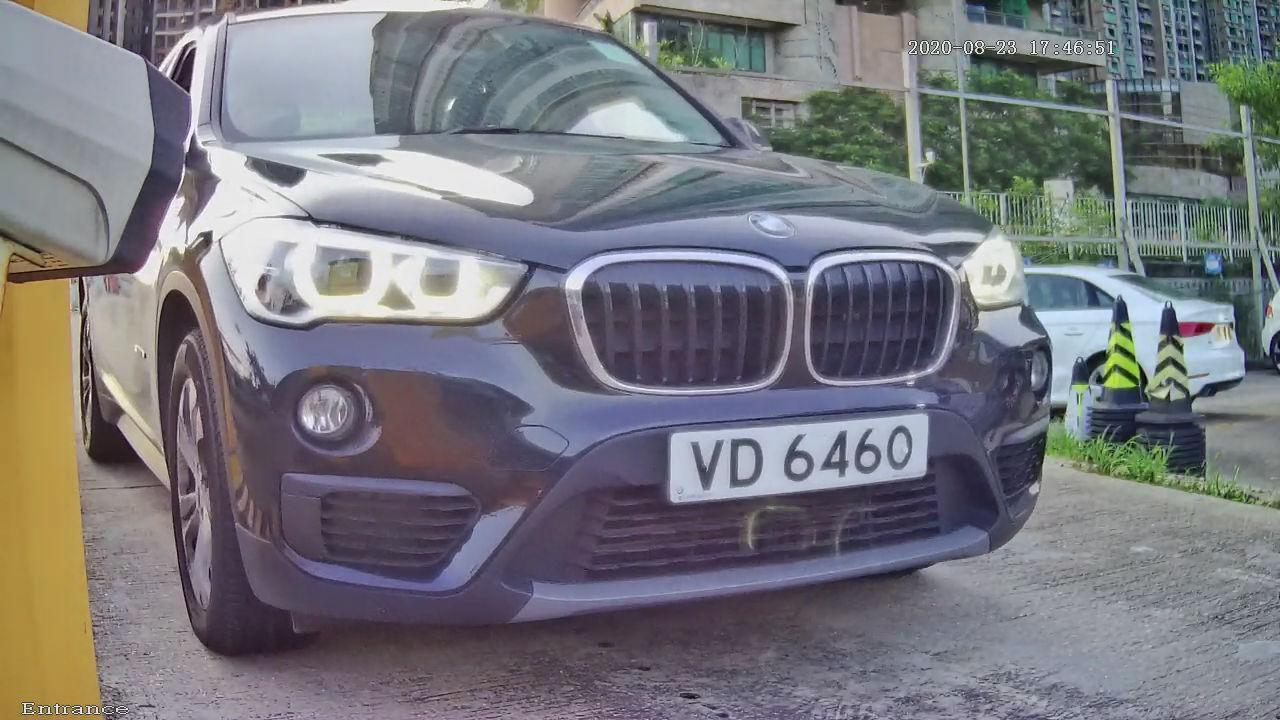Car: (35, 17, 1126, 672)
License Plate: (633, 377, 992, 540)
